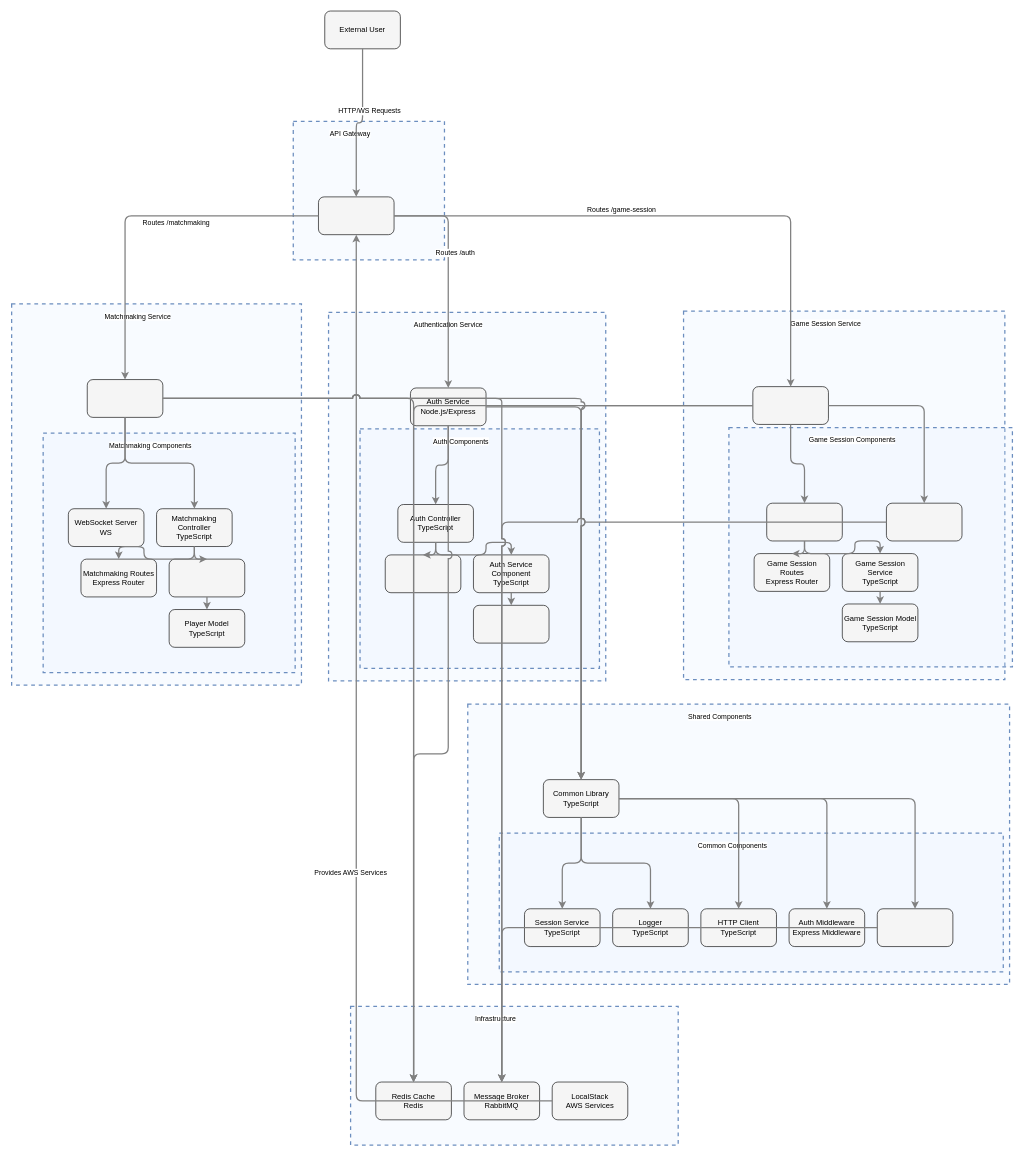
Image size: 1024x1157. Some labels were removed from this diagram. Here are the shapes that lost their labels. From the top down, the centre of each, then its label:
At [356,215]: "API Gateway AWS API Gateway/LocalStack".
At [125,398]: "Matchmaking Service Node.js/Express".
At [790,405]: "Game Session Service Node.js/Express".
At [804,522]: "Game Session Controller TypeScript".
At [924,522]: "Game Session Consumer RabbitMQ Consumer".
At [207,577]: "Matchmaking Service TypeScript".
At [423,573]: "Auth Routes Express Router".
At [511,624]: "User Model TypeScript".
At [915,927]: "Messaging Utility RabbitMQ".
